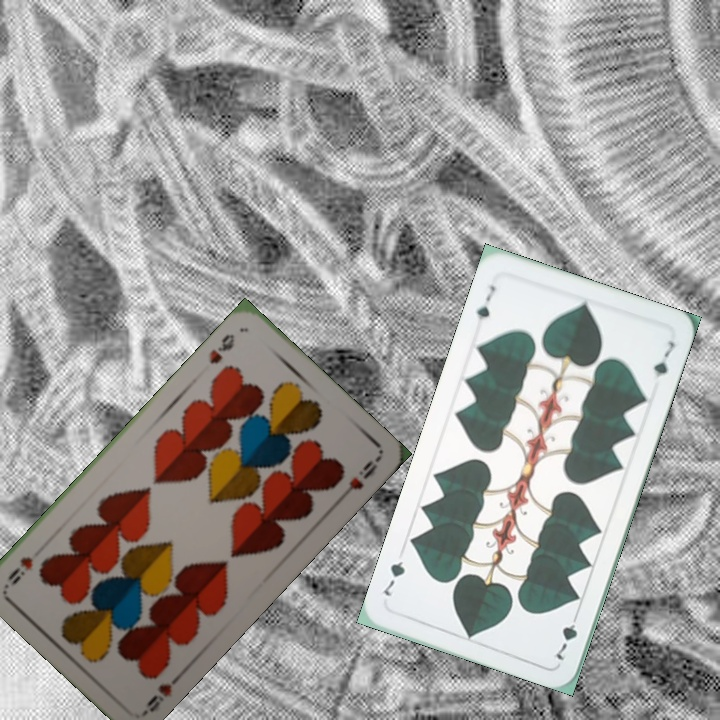G7: (549, 607, 581, 663), (472, 280, 498, 329)
H9: (139, 668, 185, 717), (205, 329, 237, 367)
